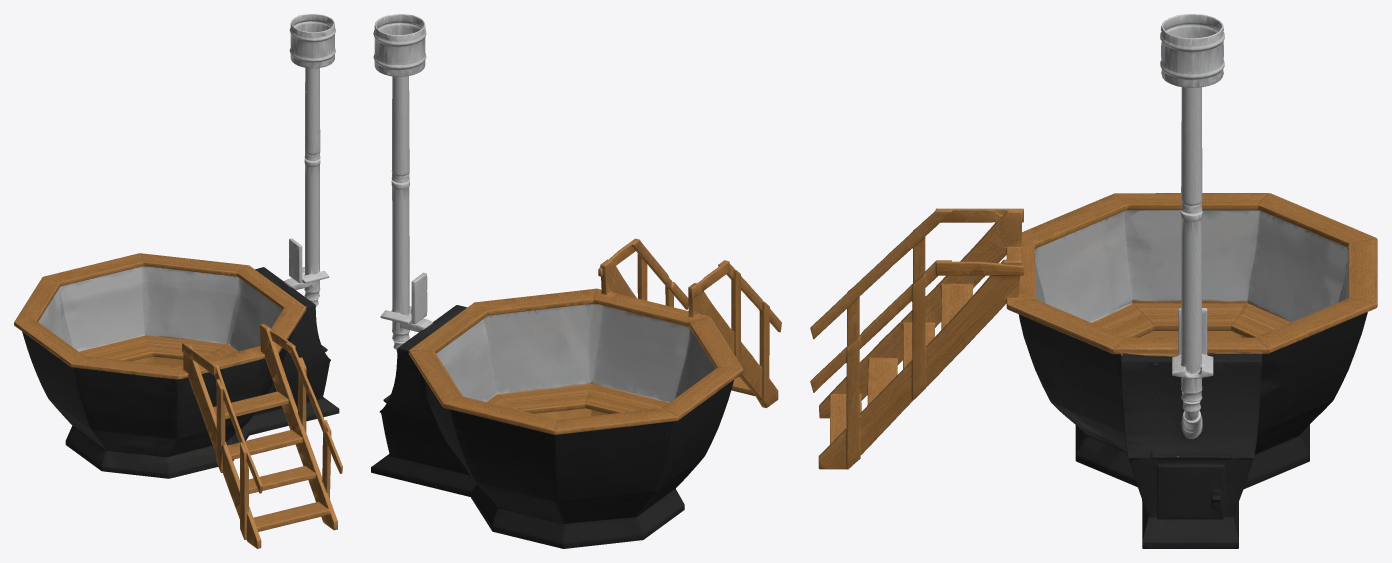
Rendered from meshy-hot-tub-web.glb.
3 views of the same model, side by side, from view 1: azimuth 30°, elevation 25°; view 2: azimuth 150°, elevation 25°; view 3: azimuth 270°, elevation 25° (orthographic). The views are drawn at different scales.
Visible parts, largest first — view 1: mesh_node; view 2: mesh_node; view 3: mesh_node.
Boxes of the visible parts, left/top/right/bottom form: mesh_node: left=14, top=14, right=342, bottom=548; mesh_node: left=371, top=14, right=781, bottom=548; mesh_node: left=810, top=14, right=1377, bottom=548.
Bounding box in the file's own units: 1.52 × 1.9 × 1.89.
Materials: 1 (1 with a texture image).
